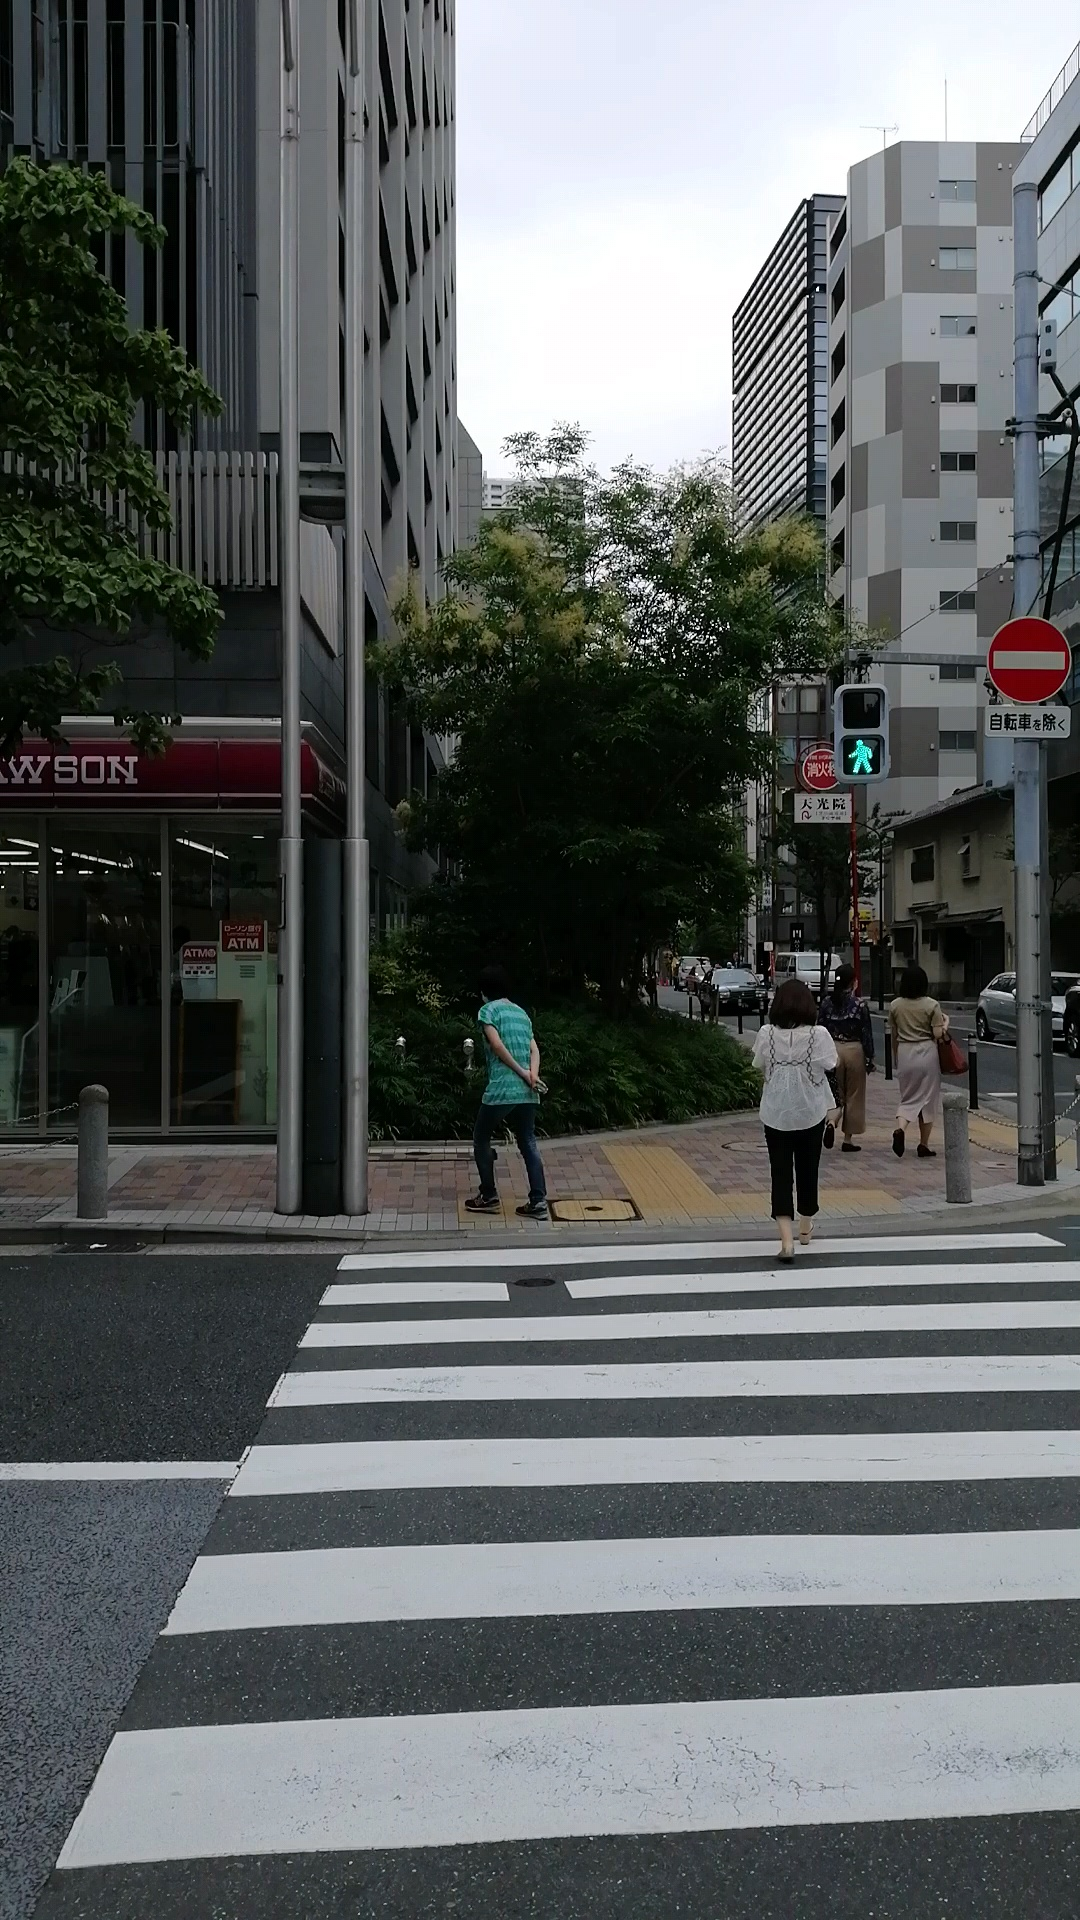green: (833, 683, 887, 781)
